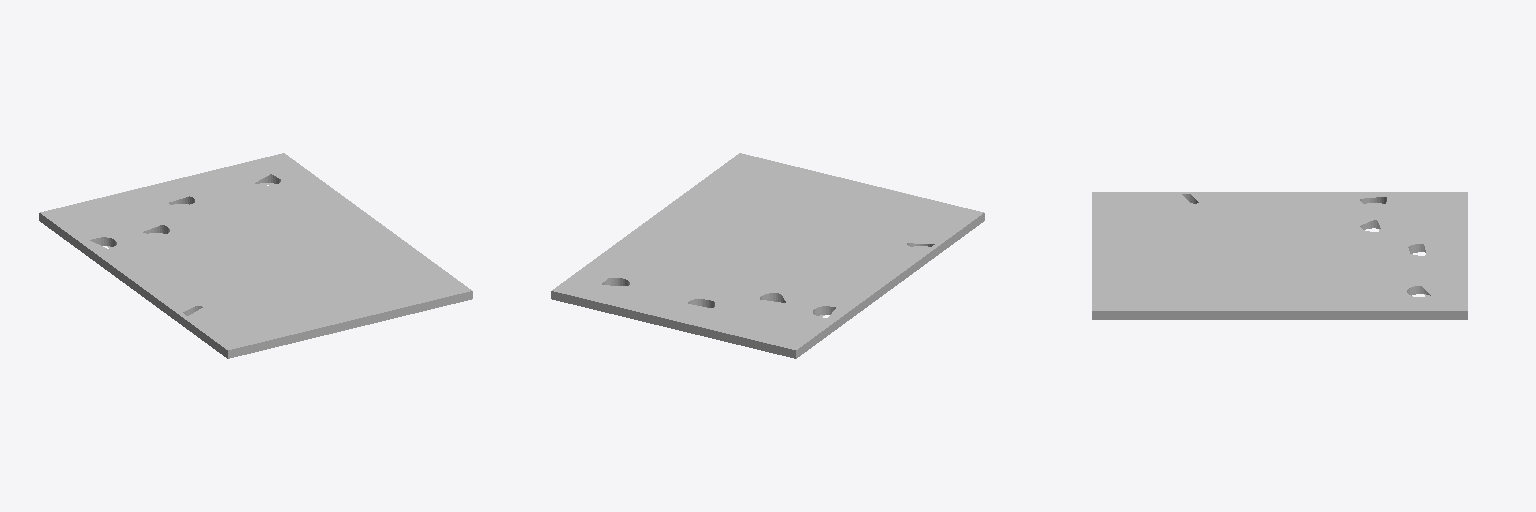
Rendered from stage3.obj.
3 views of the same model, side by side, from view 1: azimuth 30°, elevation 25°; view 2: azimuth 150°, elevation 25°; view 3: azimuth 270°, elevation 25° (orthographic).
Parts seen in each view (by area): view 1: Cube_Cube.002; view 2: Cube_Cube.002; view 3: Cube_Cube.002.
Boxes of the visible parts, x1,y1,x2,y2 form: Cube_Cube.002: [39, 153, 472, 358]; Cube_Cube.002: [551, 153, 984, 358]; Cube_Cube.002: [1092, 192, 1467, 319].
Size of the model in its own units: 60 by 2 by 80.